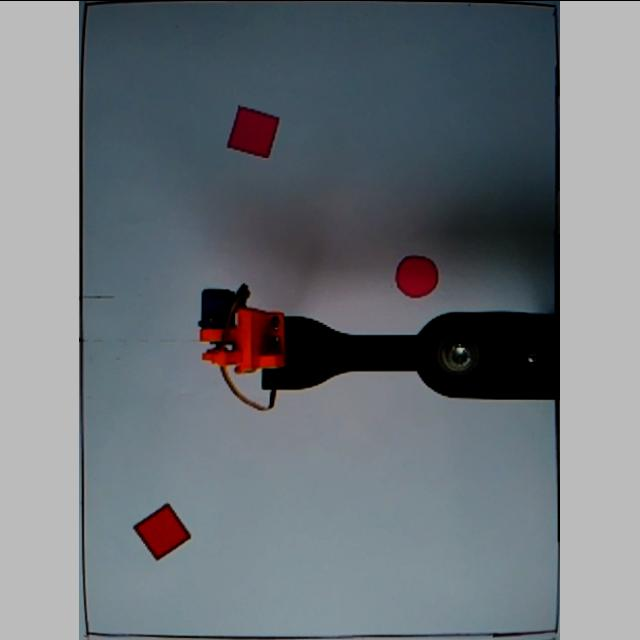pinkCircle: (396, 252, 442, 298)
pinkSquare: (226, 104, 282, 158)
redSquare: (133, 502, 193, 560)
